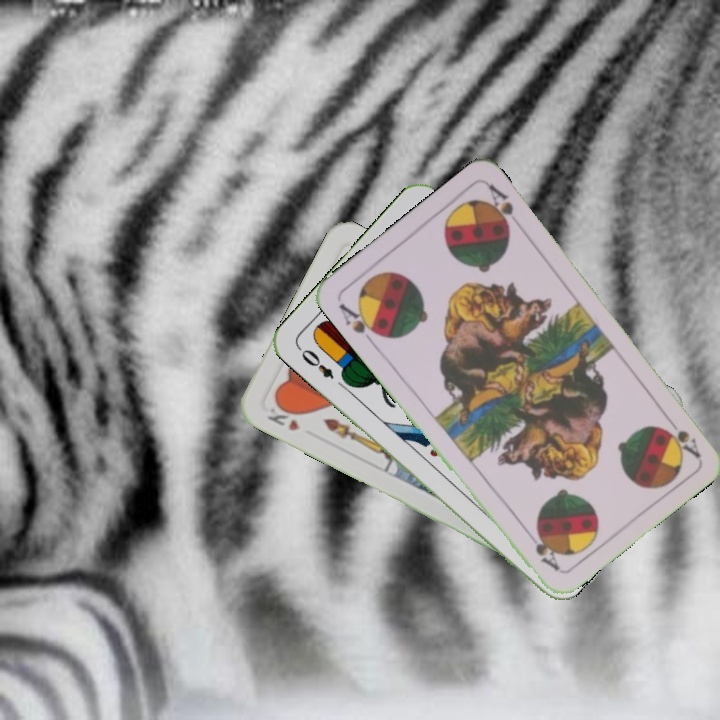EO: (293, 343, 337, 382)
HK: (263, 397, 304, 434)
SA: (334, 299, 385, 347), (660, 410, 703, 460)
